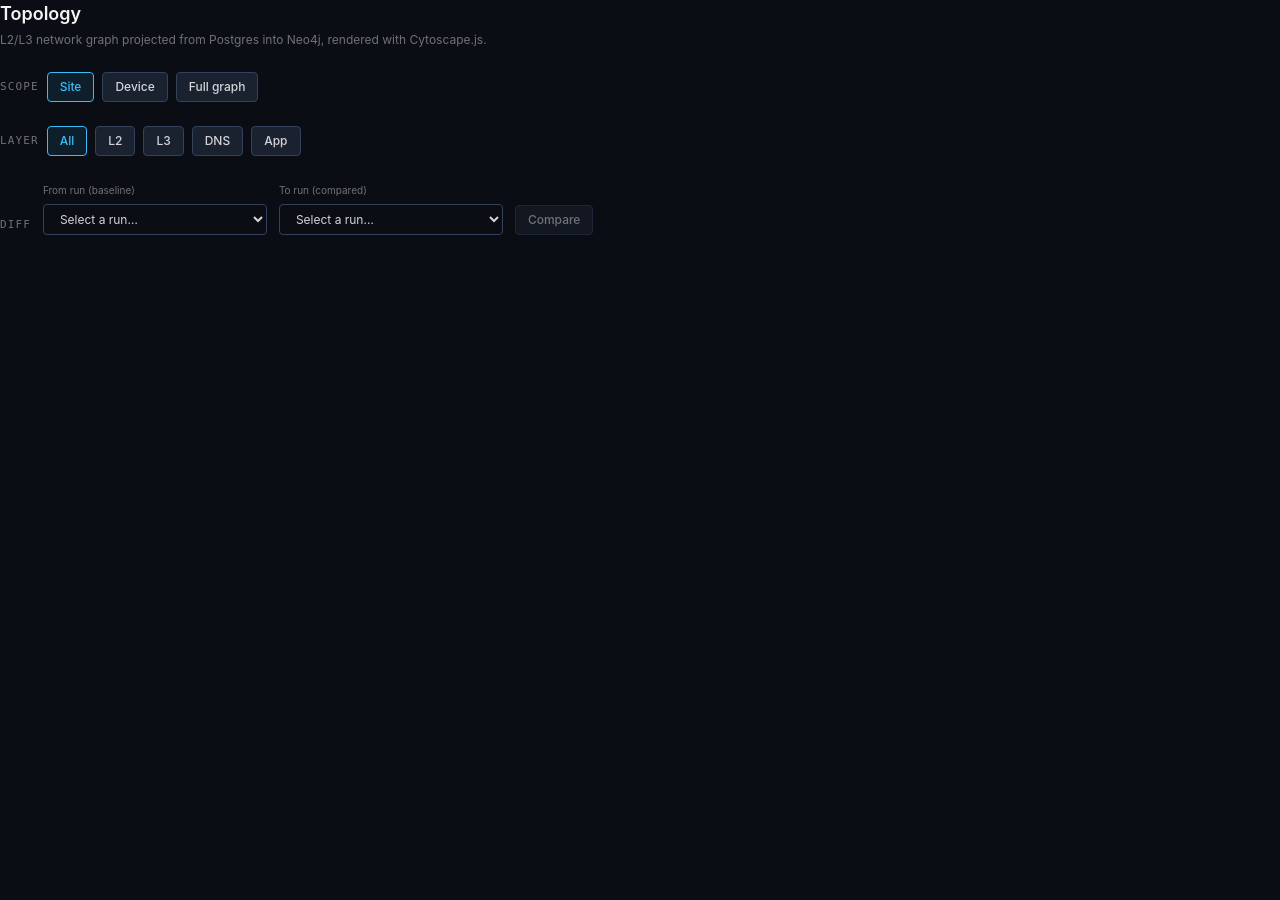
impact_view_shows_watermark_and_empty_state › shows the projection watermark and an empty state when nothing depends on anything
The width and height of the screenshot is (1280, 900).
Click the button with test id "topology-layer-app": (276, 141) [251,126,300,156]
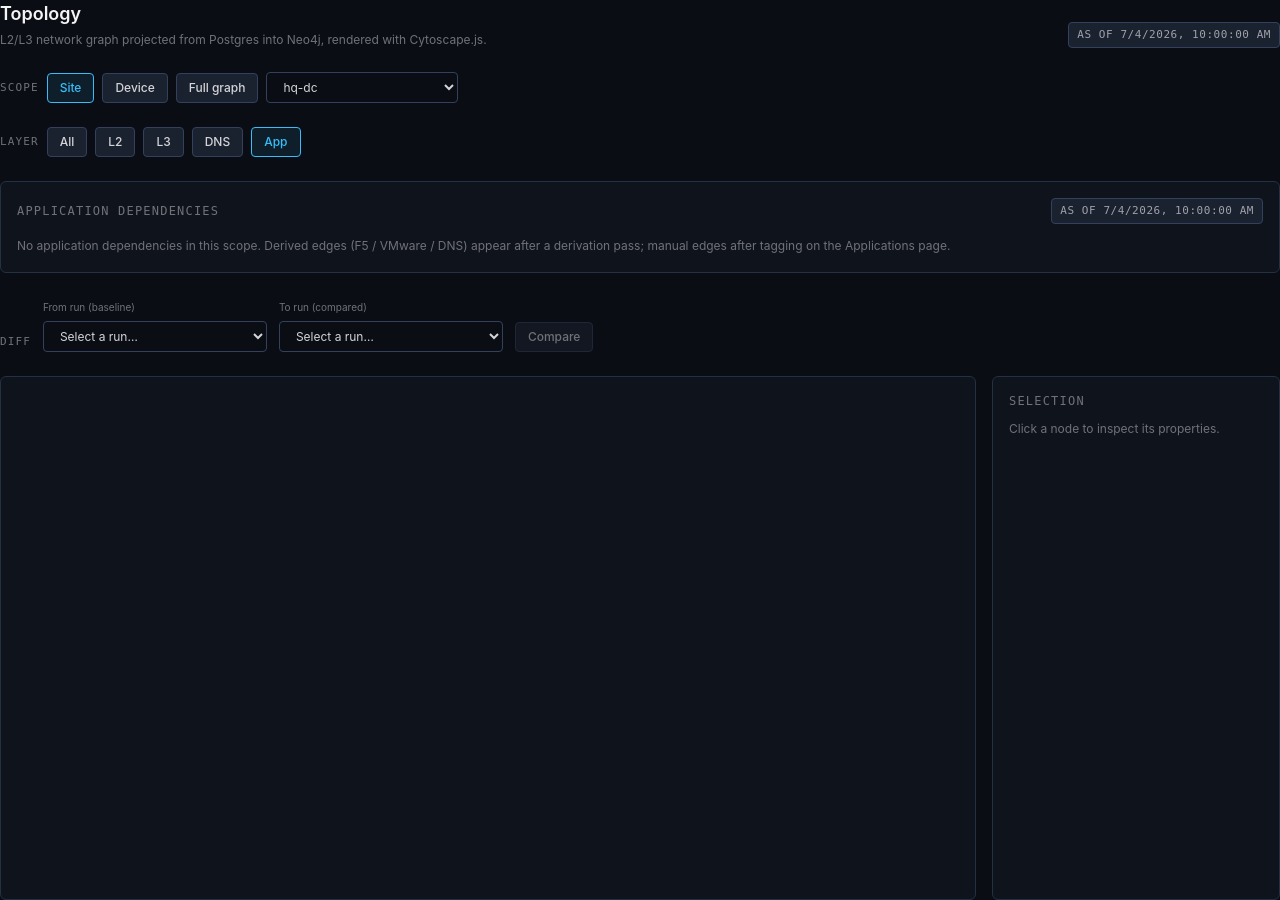
Expected: the text with test id "app-impact-watermark" is shown, [1051,198,1263,224]
Expected: the text with test id "app-impact-empty" is shown, [17,238,950,253]
